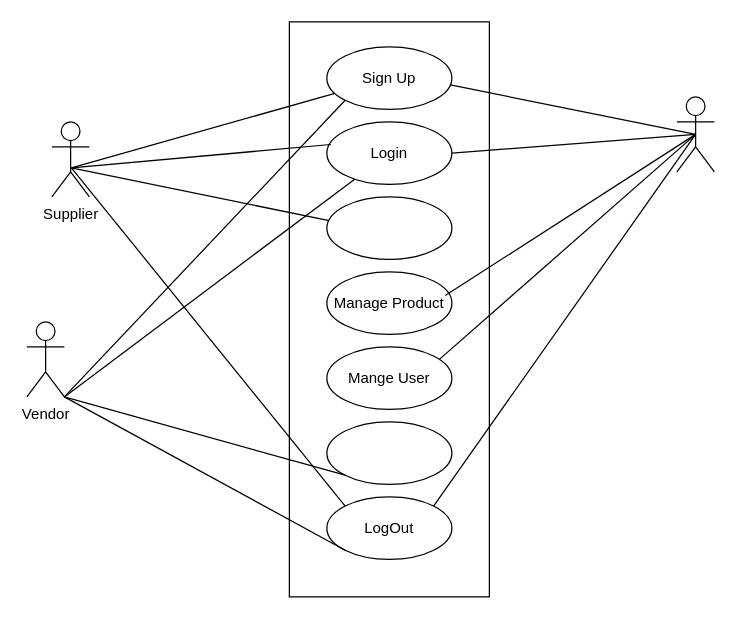
This 738x619 diagram has some shape labels left out. The shapes that lost their labels are listed below. From the top down, each one's centre as x and y in pixels, then its label:
pixel 695 134: Admin
pixel 389 227: Add Product
pixel 389 452: Buy Product
